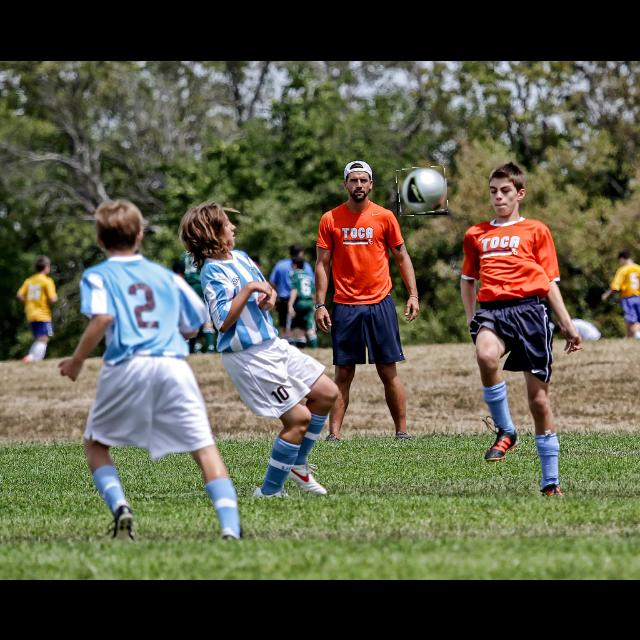Football: (397, 167, 447, 215)
